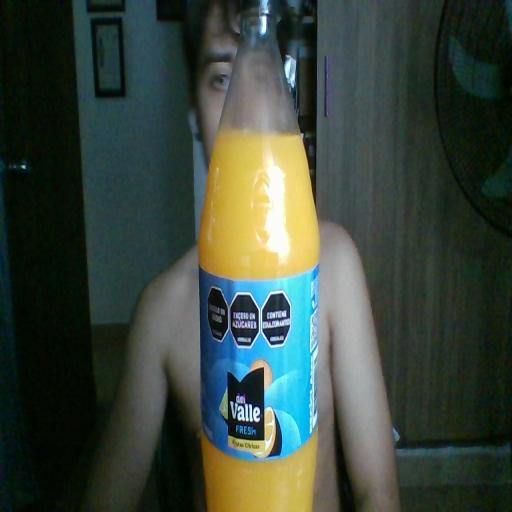Jugo del valle: (199, 0, 319, 511)
